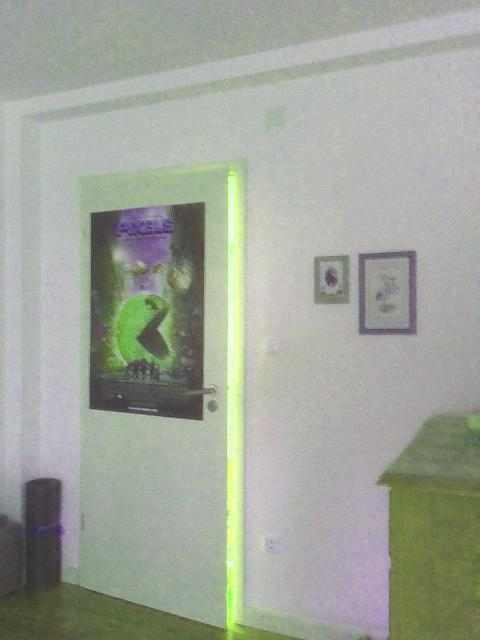closed_door: (74, 158, 248, 627)
